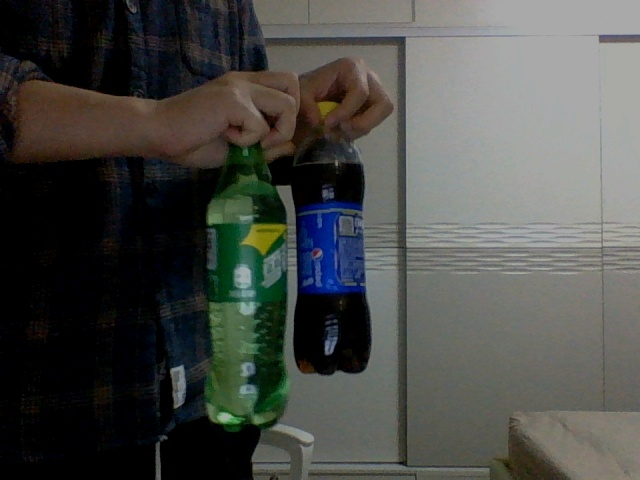Cola: (292, 101, 373, 374)
Sprite: (203, 129, 287, 430)
